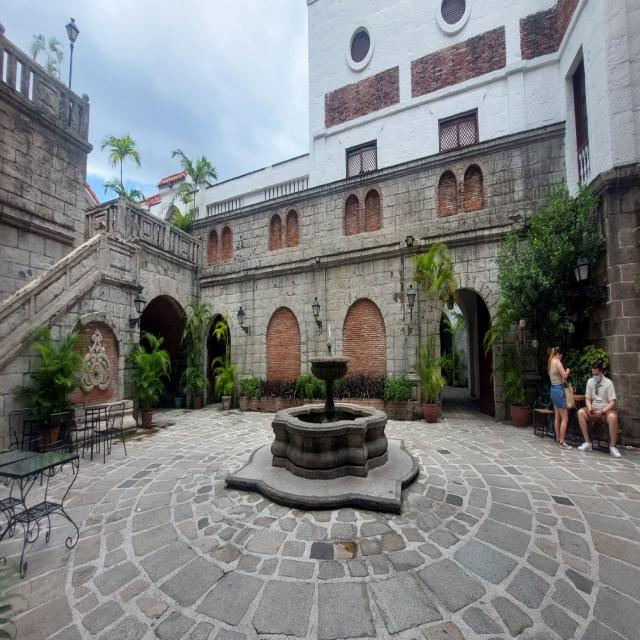Casa Manila: (0, 0, 640, 476)
